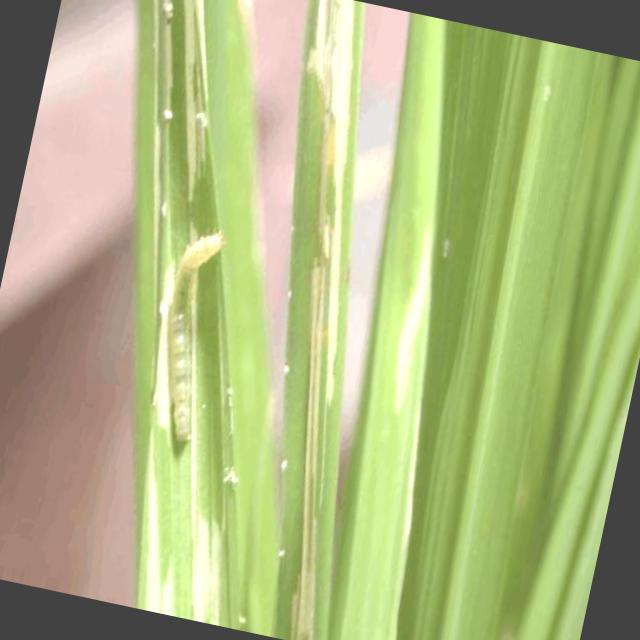leaf folder: (169, 233, 223, 445)
